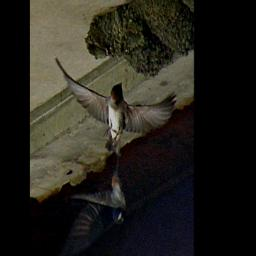Swallow: (53, 55, 179, 160)
